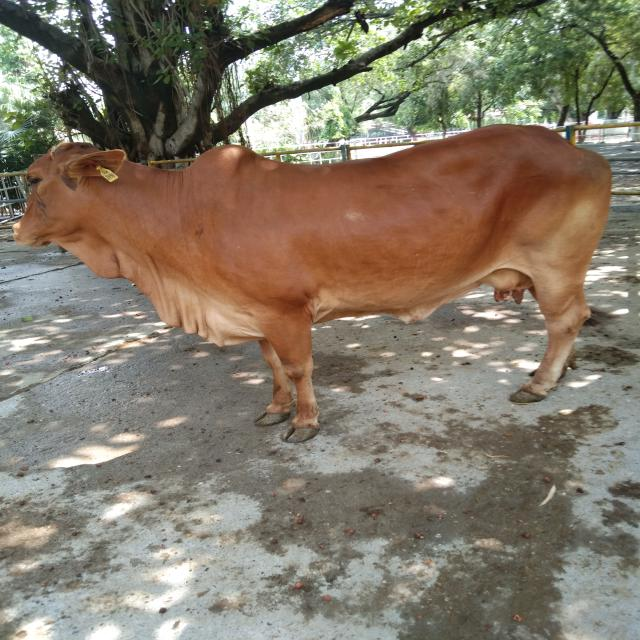1: (169, 145, 289, 171)
Hoof: (281, 422, 320, 443), (253, 409, 291, 426), (508, 388, 546, 404)
